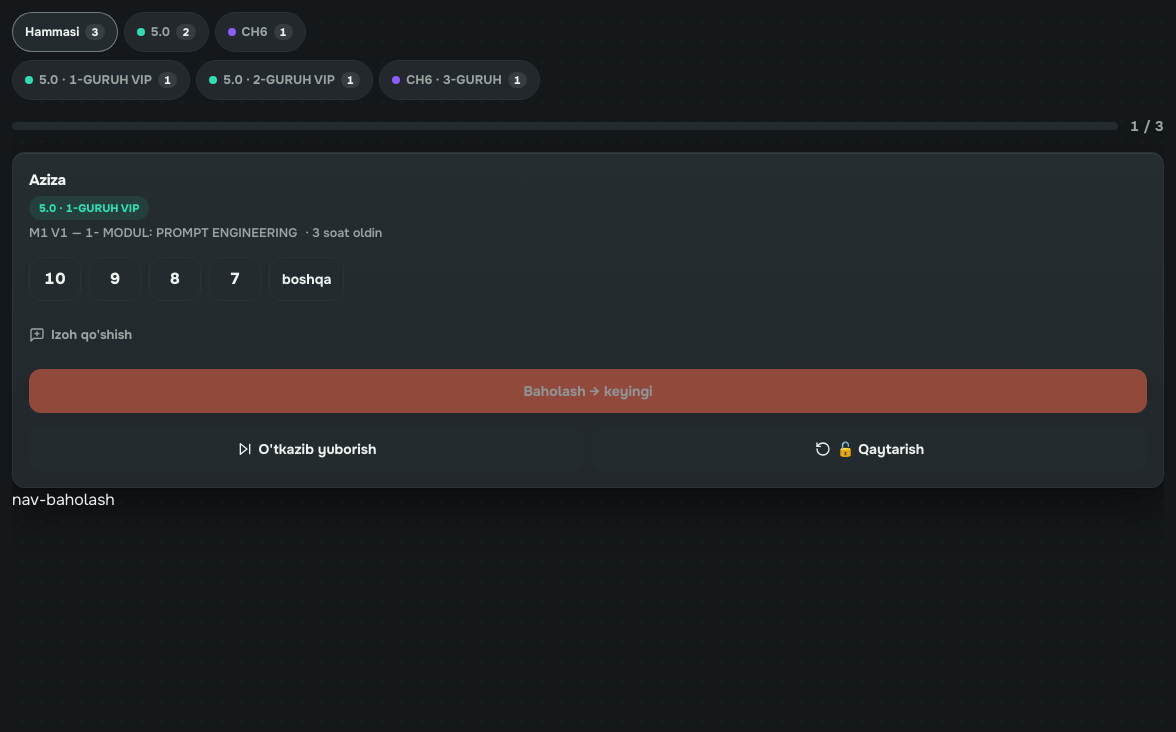
Test: TeacherGrade course + group filter › 'Ortga' after switching to another course widens back to 'Hammasi' so the re-opened card is the one on screen
Later steps or results of the test are not shown.
Expected: the text "Aziza" is shown, [29, 170, 66, 190]
Click the button "8" at (175, 279), box [149, 257, 201, 301]
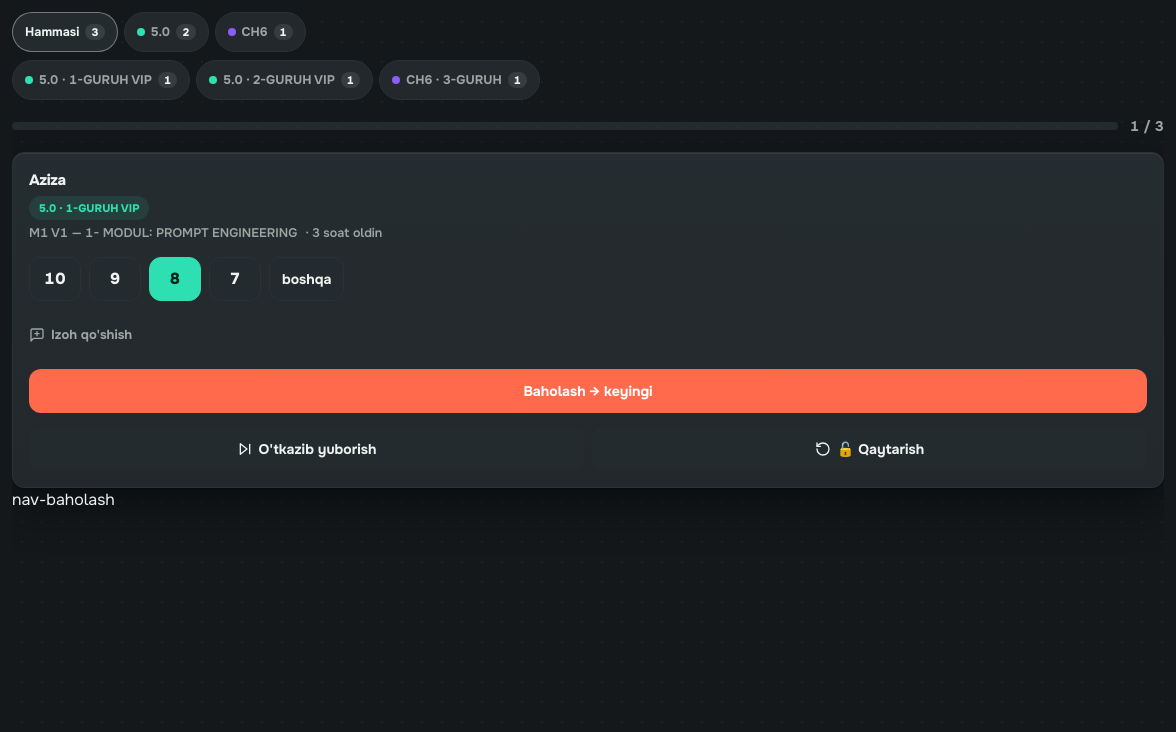
Click the button "Baholash → keyingi" at (588, 391), box [29, 369, 1147, 413]
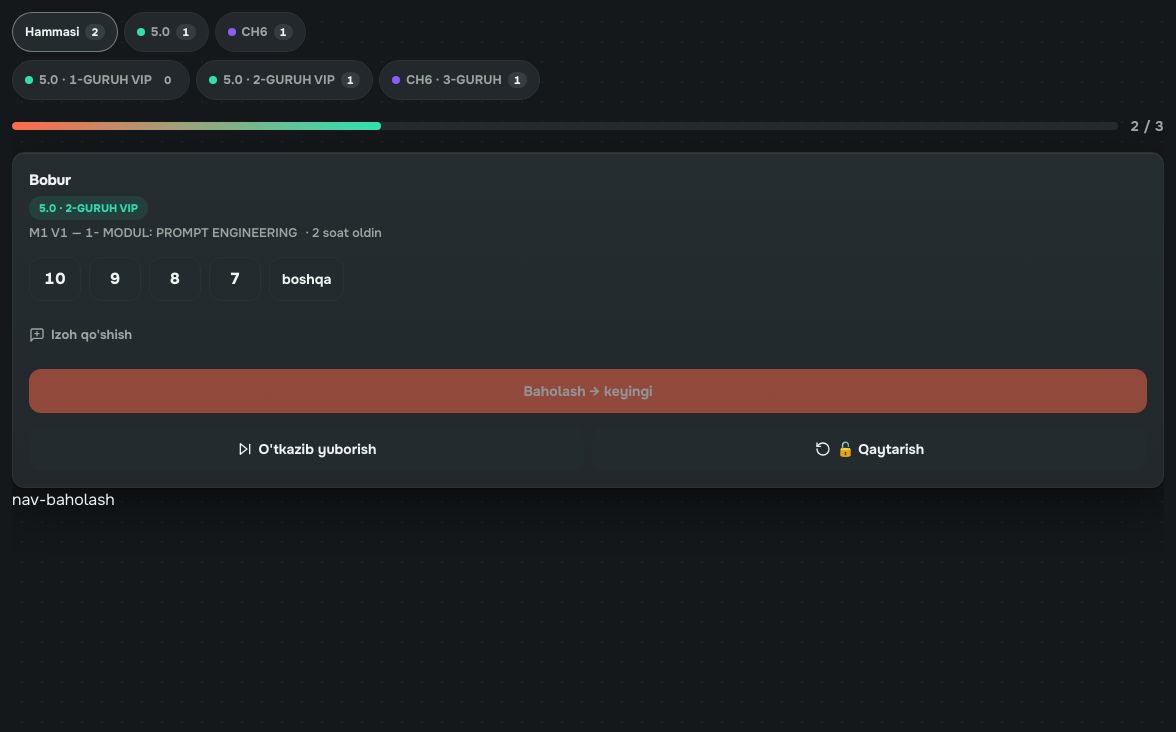
Click the button with aria-label "CH6 (1)" at (260, 32), box [214, 12, 306, 52]
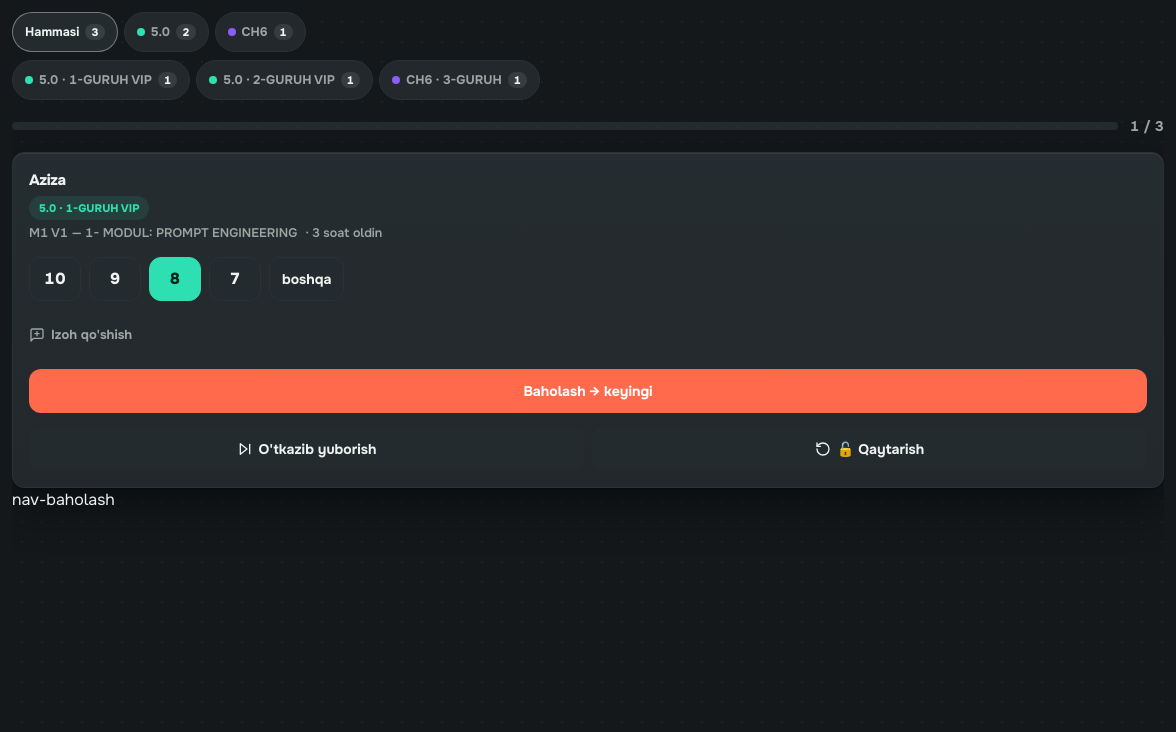
Result: the text "Aziza" is shown at [29, 170, 66, 190]
